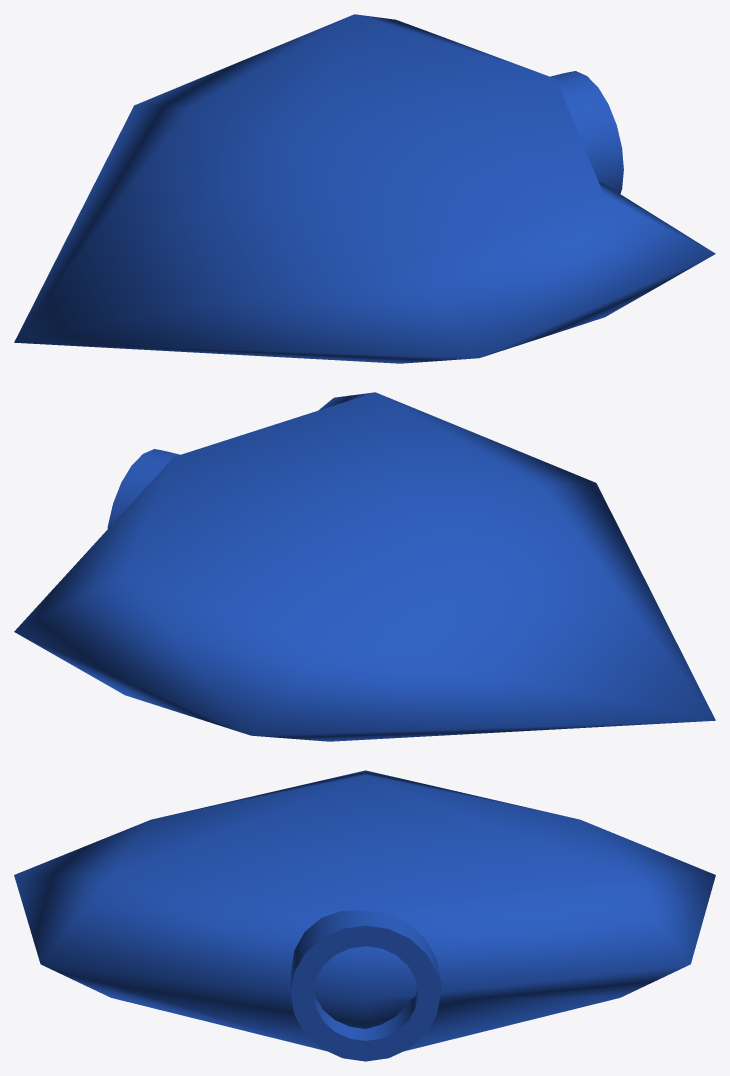
File: ShipObj.obj
The picture shows the model from 3 angles, top to bottom: view 1: azimuth 30°, elevation 25°; view 2: azimuth 150°, elevation 25°; view 3: azimuth 270°, elevation 25°; orthographic projection.
Visible parts, largest first — view 1: pPyramid2; view 2: pPyramid2; view 3: pPyramid2.
Boxes of the visible parts, x1=… form: pPyramid2: x1=14, y1=14, x2=715, y2=363; pPyramid2: x1=14, y1=392, x2=715, y2=741; pPyramid2: x1=14, y1=770, x2=715, y2=1061.
Size of the model in its own units: 2.96 by 0.7834 by 3.09.
